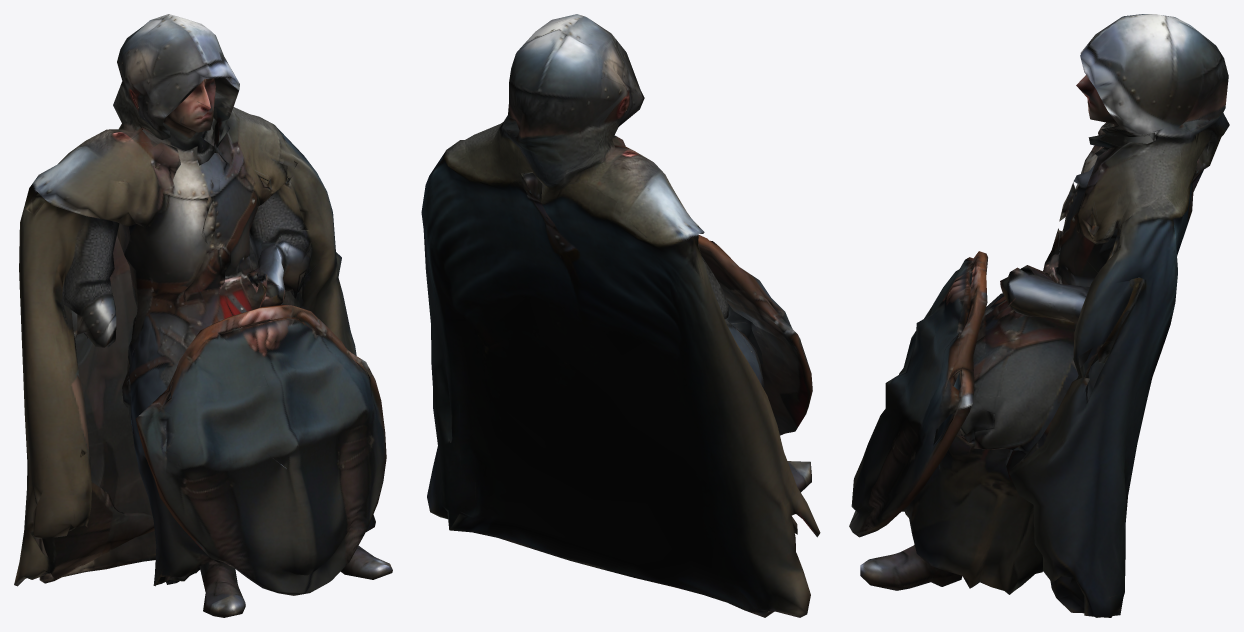
Rendered from Meshy_AI_a_medieval_town_guard_0308162245_texture.fbx.
3 views of the same model, side by side, from view 1: azimuth 30°, elevation 25°; view 2: azimuth 150°, elevation 25°; view 3: azimuth 270°, elevation 25° (orthographic). The views are drawn at different scales.
Parts seen in each view (by area): view 1: Mesh_0; view 2: Mesh_0; view 3: Mesh_0.
Part boxes in pixels (left/top/right/bottom): Mesh_0: left=14, top=14, right=392, bottom=617; Mesh_0: left=421, top=14, right=820, bottom=617; Mesh_0: left=849, top=14, right=1229, bottom=617.
Size of the model in its own units: 140 by 201 by 125.
1 material, 1 textured.
